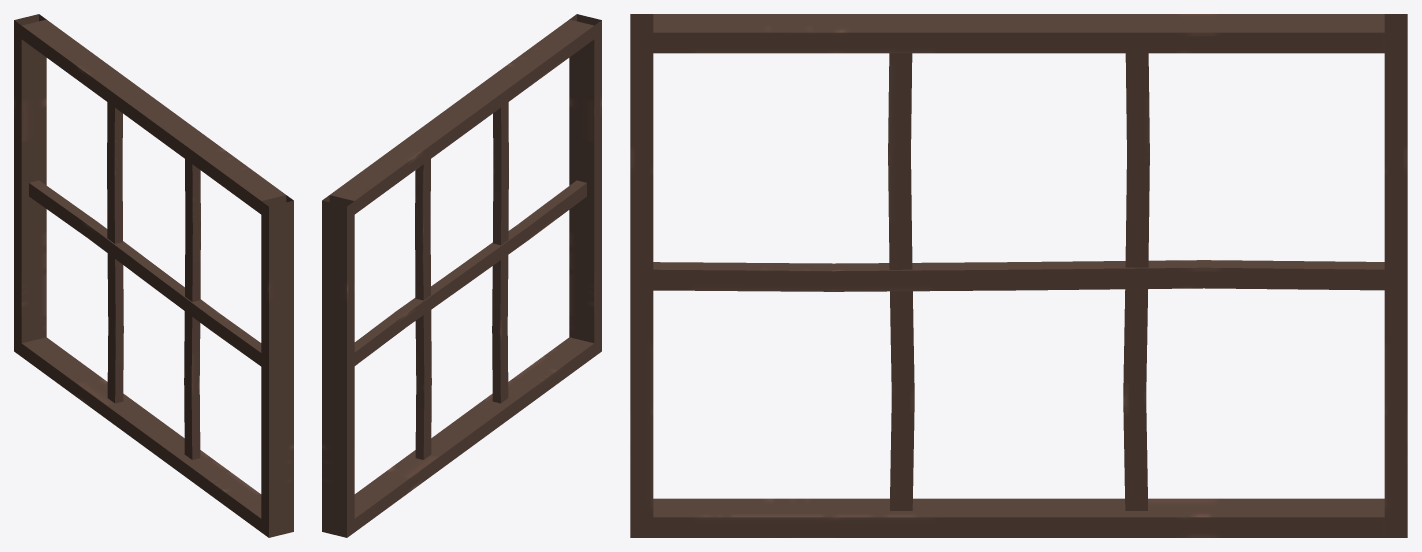
The model's file is SM_Polygonal_Metal_Window.fbx.
3 renders of one model, left to right at view 1: azimuth 30°, elevation 25°; view 2: azimuth 150°, elevation 25°; view 3: azimuth 270°, elevation 25°, orthographic. The views are drawn at different scales.
Parts seen in each view (by area): view 1: SM_Polygonal_Metal_Window_LOD0; view 2: SM_Polygonal_Metal_Window_LOD0; view 3: SM_Polygonal_Metal_Window_LOD0.
Boxes of the visible parts, x1,y1,x2,y2 form: SM_Polygonal_Metal_Window_LOD0: (14,14,293,537); SM_Polygonal_Metal_Window_LOD0: (322,14,601,537); SM_Polygonal_Metal_Window_LOD0: (630,14,1407,537).
Bounding box in the file's own units: 9.17 × 162 × 116.
1 material, 1 textured.
